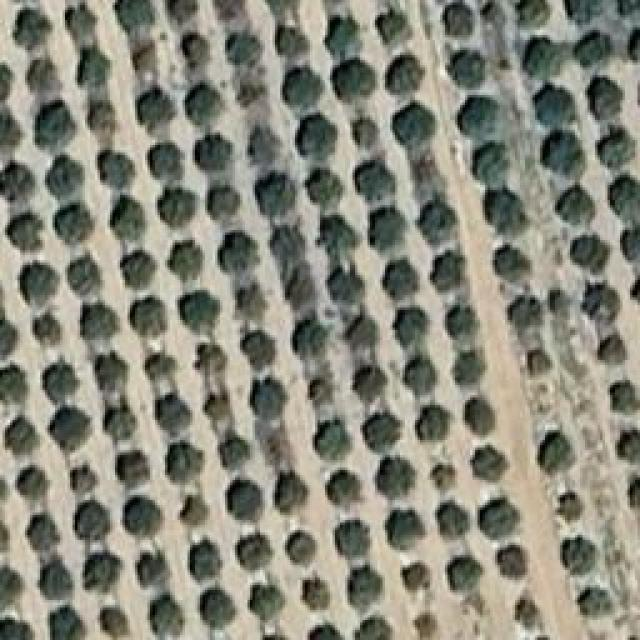Tree: (482, 183, 527, 237), (525, 35, 572, 84), (44, 405, 98, 447), (360, 405, 407, 452), (543, 130, 587, 180), (557, 532, 604, 577), (196, 585, 240, 633), (298, 110, 341, 159), (222, 477, 267, 523), (147, 592, 193, 637), (535, 428, 582, 472), (318, 210, 361, 258), (535, 80, 576, 130), (215, 233, 263, 275), (70, 503, 119, 544), (117, 495, 162, 539), (279, 266, 322, 312), (454, 95, 496, 142), (410, 198, 457, 240), (310, 418, 352, 465), (252, 170, 296, 214), (142, 138, 187, 181), (385, 505, 428, 550), (505, 290, 548, 335), (375, 455, 417, 501), (473, 143, 514, 190), (185, 537, 226, 584), (388, 305, 432, 348), (127, 295, 172, 337), (50, 200, 93, 243), (28, 103, 71, 146), (335, 60, 378, 103), (275, 475, 321, 515), (392, 100, 439, 139), (133, 88, 174, 132), (267, 222, 312, 262), (380, 255, 418, 302), (290, 318, 334, 358), (348, 568, 388, 612), (280, 68, 325, 107), (323, 15, 365, 56), (373, 8, 414, 50), (110, 450, 152, 491), (13, 8, 53, 51), (178, 290, 221, 330), (480, 498, 520, 541), (120, 248, 164, 287), (72, 50, 116, 89), (103, 397, 139, 444), (130, 548, 171, 589), (223, 28, 265, 68), (168, 444, 208, 486), (83, 550, 125, 590), (585, 78, 625, 120), (195, 135, 235, 176), (333, 518, 373, 559), (558, 185, 598, 226), (443, 558, 485, 597), (5, 415, 44, 457), (593, 125, 632, 167), (493, 243, 533, 283), (65, 253, 104, 294), (45, 360, 83, 402), (15, 463, 53, 505), (575, 578, 611, 622), (168, 240, 208, 279), (585, 283, 625, 322), (183, 88, 224, 126), (325, 268, 366, 306), (25, 513, 63, 554), (428, 253, 465, 295), (0, 160, 36, 203), (5, 215, 50, 249), (248, 128, 288, 166), (155, 395, 193, 435), (248, 378, 285, 419), (385, 58, 427, 94), (283, 530, 318, 573), (43, 605, 86, 640), (428, 500, 466, 539), (83, 103, 122, 141), (445, 45, 482, 85), (240, 328, 277, 368), (238, 528, 274, 569), (103, 198, 145, 233), (438, 0, 480, 35), (573, 235, 611, 273), (353, 163, 392, 200), (468, 445, 505, 484), (450, 350, 486, 390), (308, 168, 349, 203), (575, 25, 609, 67), (607, 174, 640, 217), (347, 314, 379, 358), (75, 303, 116, 337), (275, 23, 311, 61), (295, 573, 331, 611), (47, 158, 82, 197), (23, 60, 62, 95), (370, 210, 405, 249), (193, 340, 232, 375), (403, 350, 439, 387), (175, 493, 211, 530), (63, 3, 102, 37), (215, 433, 249, 472), (38, 558, 72, 597), (18, 263, 54, 299), (515, 0, 555, 32), (205, 190, 241, 225), (158, 185, 194, 220), (138, 350, 174, 385), (590, 333, 625, 368), (357, 368, 391, 404), (235, 283, 269, 319), (197, 385, 231, 421), (30, 313, 64, 349), (113, 0, 156, 28), (98, 600, 128, 640), (513, 593, 544, 631), (245, 582, 280, 615), (98, 150, 134, 182), (400, 560, 433, 594), (178, 32, 213, 64), (416, 403, 448, 438), (3, 361, 29, 404), (0, 565, 22, 613), (555, 490, 586, 524), (447, 307, 479, 339), (565, 0, 609, 23), (523, 347, 554, 379), (408, 610, 441, 640), (612, 383, 640, 418), (325, 475, 357, 505), (0, 615, 38, 640), (351, 113, 378, 148), (493, 545, 520, 580), (95, 354, 125, 384), (428, 458, 458, 488), (461, 397, 488, 430), (305, 378, 335, 406), (620, 222, 640, 260), (357, 617, 390, 640), (68, 466, 95, 494), (548, 285, 572, 315), (0, 57, 15, 104), (617, 426, 639, 458), (305, 622, 343, 640), (0, 320, 19, 354), (168, 0, 202, 19)
